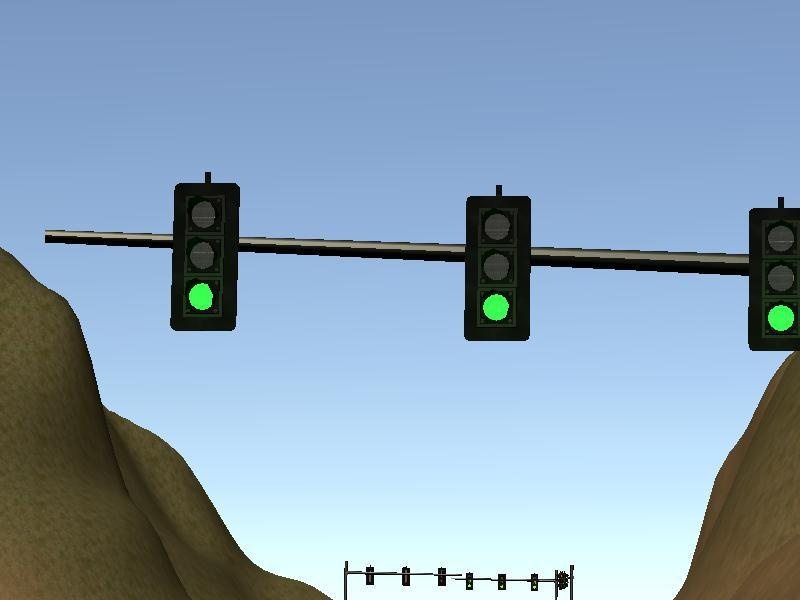Green: (465, 195, 529, 340), (174, 185, 236, 330), (751, 212, 800, 349)
